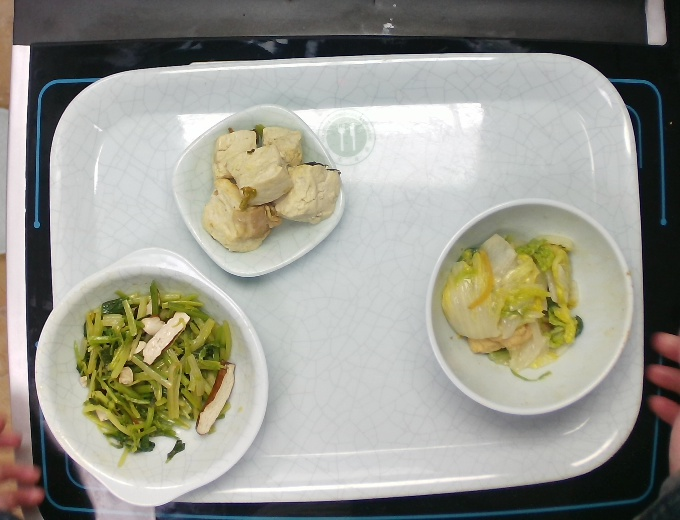JYsf-Fan_Wan: (417, 190, 641, 425)
JYsf-Shuang_Er_Wan: (23, 246, 271, 516)
JYsf-Si_Fang_Die: (164, 97, 352, 281)
